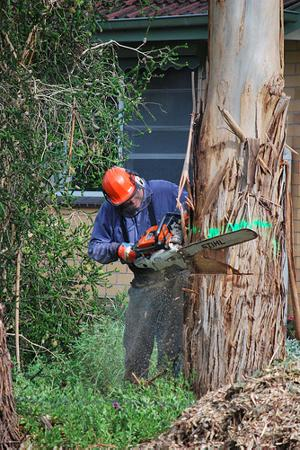person: (87, 165, 196, 389)
